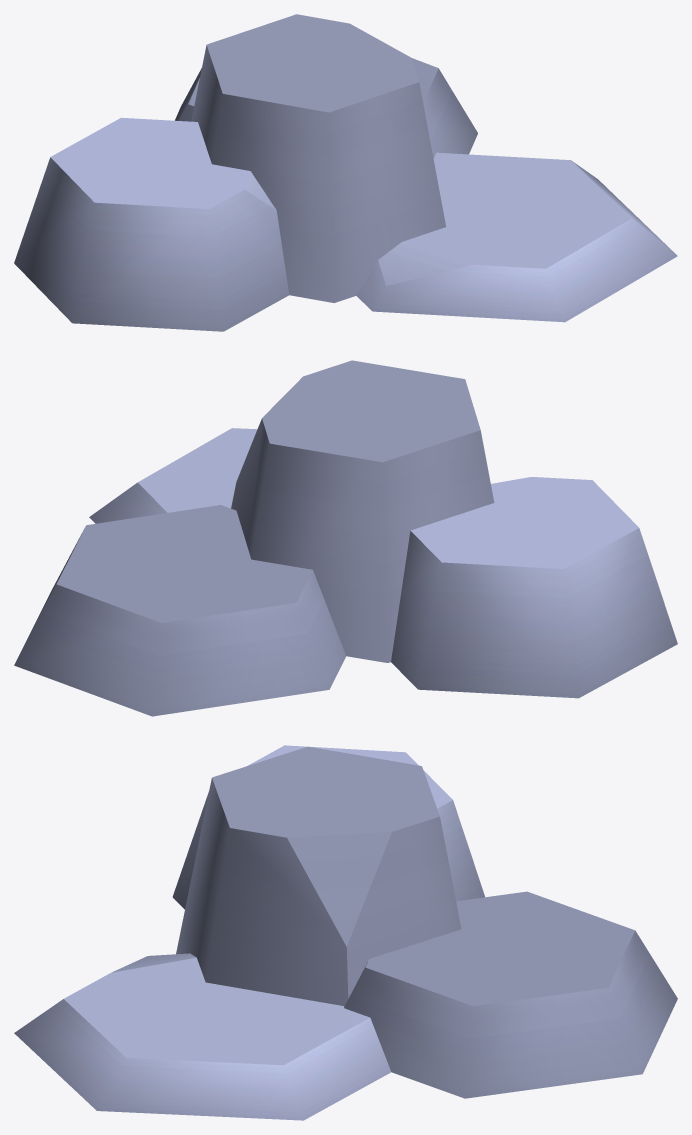
The model's file is detail-rocks.glb.
3 renders of one model, top to bottom at view 1: azimuth 30°, elevation 25°; view 2: azimuth 150°, elevation 25°; view 3: azimuth 270°, elevation 25°, orthographic. The views are drawn at different scales.
Visible parts, largest first — view 1: detail-rocks; view 2: detail-rocks; view 3: detail-rocks.
Boxes of the visible parts, x1=… form: detail-rocks: x1=14, y1=14, x2=677, y2=331; detail-rocks: x1=14, y1=360, x2=677, y2=716; detail-rocks: x1=14, y1=745, x2=677, y2=1120.
Bounding box in the file's own units: 0.5976 × 0.1844 × 0.6055.
1 material, 1 textured.
